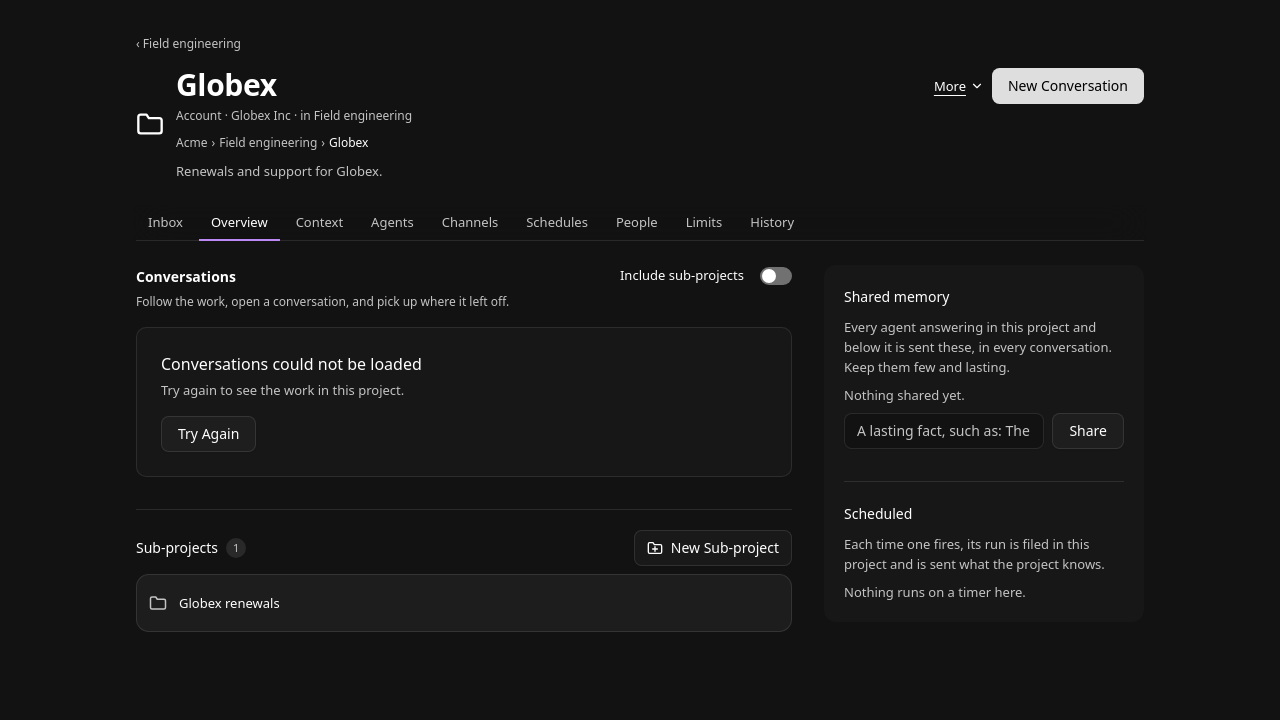
Test: a failed project work read is recoverable and never presented as an empty project
Expected: the text "Conversations could not be loaded" is shown, [161, 352, 422, 374]
What coordinates should you click on to do the following:
click the button "Try Again"
I would click on:
 (209, 434)
Its box is [161, 416, 256, 452].
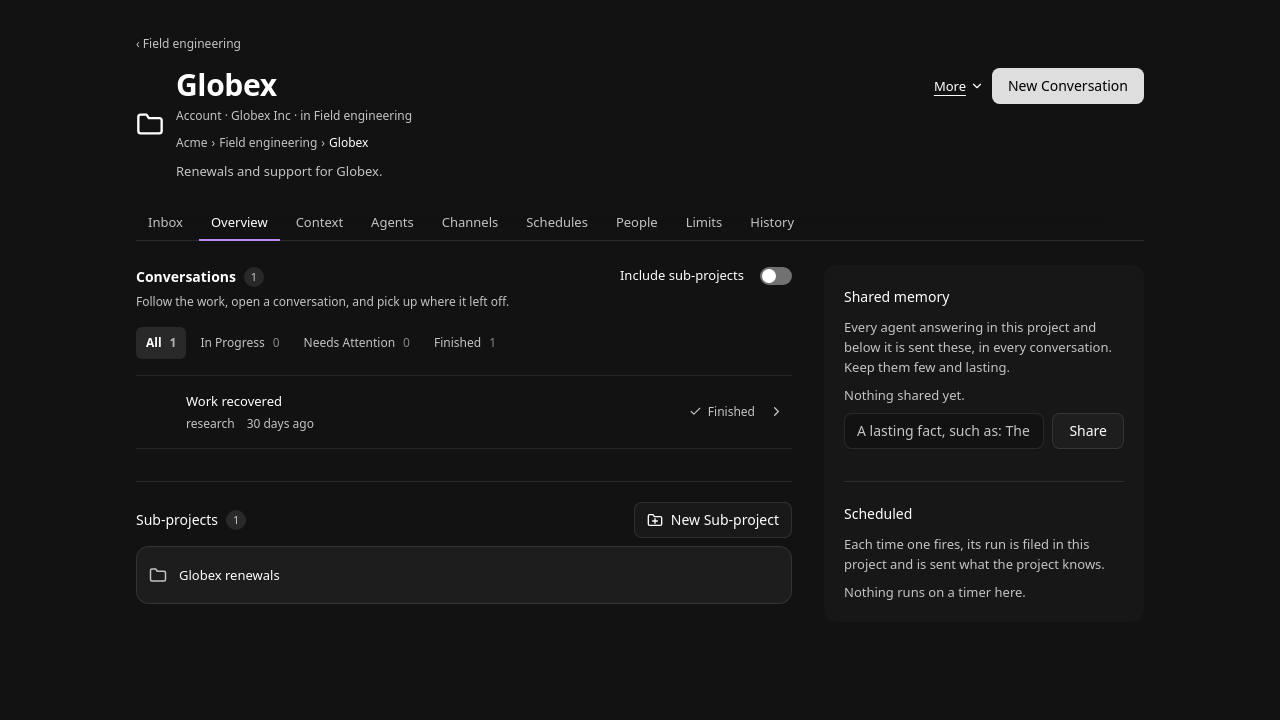
Expected: the button "Work recovered research 30 days ago Finished" is shown, [136, 376, 792, 448]
Expected: the text "Conversations could not be loaded" is gone
